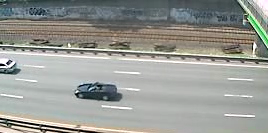car: (73, 80, 119, 103), (1, 56, 20, 75)
